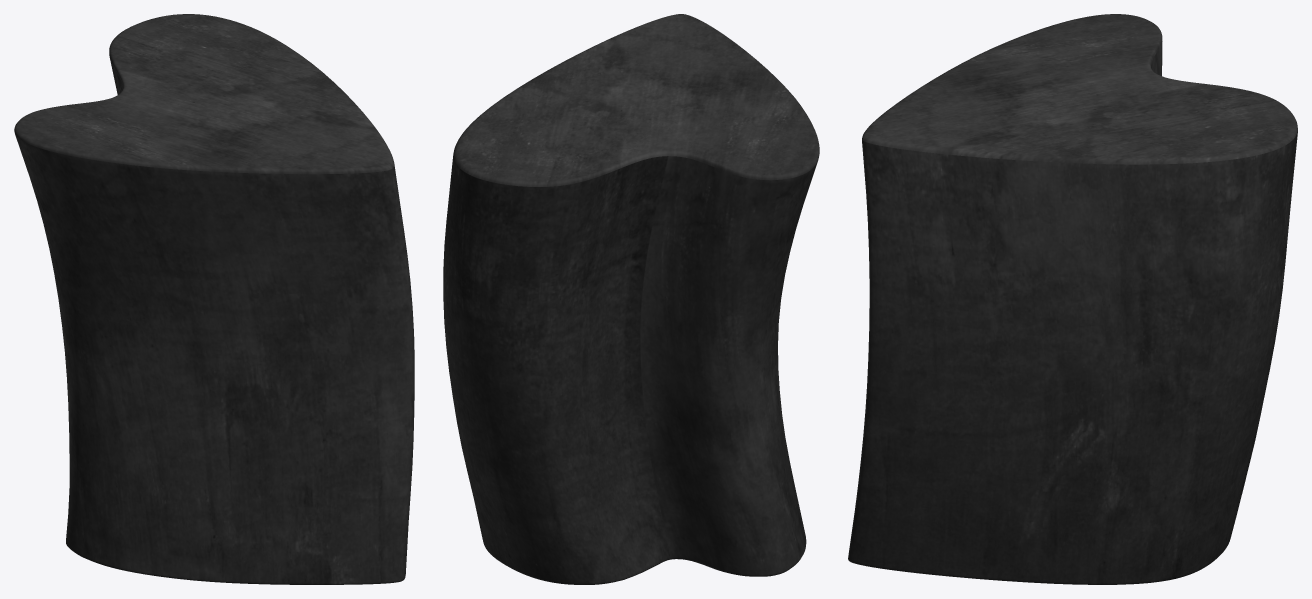
Rendered from riva1920_onelove.dae.
The picture shows the model from 3 angles, left to right: view 1: azimuth 30°, elevation 25°; view 2: azimuth 150°, elevation 25°; view 3: azimuth 270°, elevation 25°; orthographic projection. The views are drawn at different scales.
Parts seen in each view (by area): view 1: _3DGeom_1_Defintion (×2); view 2: _3DGeom_1_Defintion (×2); view 3: _3DGeom_1_Defintion (×2).
Boxes of the visible parts, box(x1,y1,x2,y2) form: _3DGeom_1_Defintion (×2): box(14, 14, 414, 584); _3DGeom_1_Defintion (×2): box(443, 14, 819, 584); _3DGeom_1_Defintion (×2): box(848, 14, 1297, 584).
Size of the model in its own units: 13.67 by 16.47 by 17.07.
